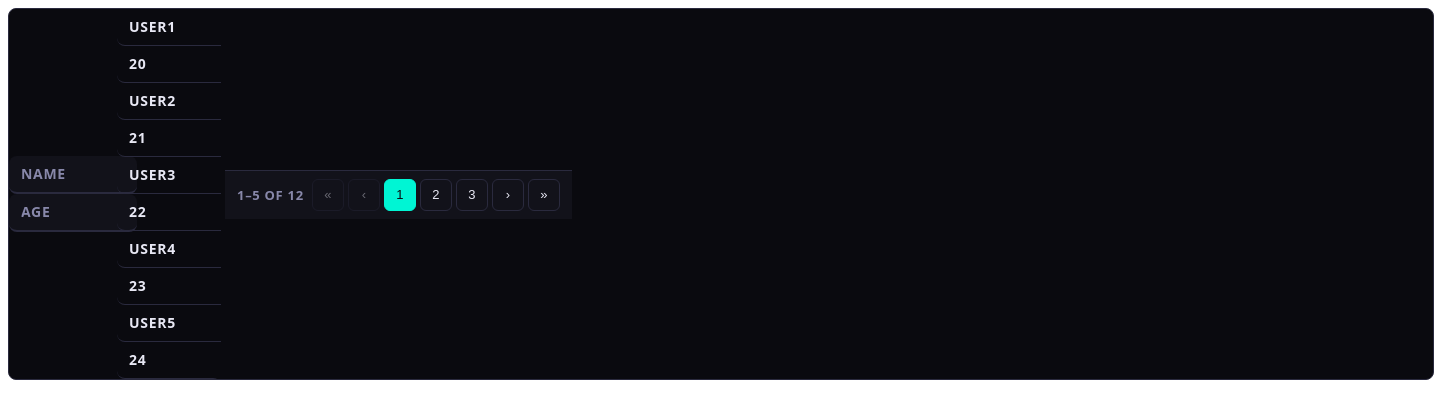
Test: TkxDataGrid › pagination › respects pageSize and next/prev buttons navigate pages
Expected: the text "User1" is shown, top-left (117, 9), bottom-right (221, 46)
Expected: the text "User5" is shown, top-left (117, 305), bottom-right (221, 342)
Click the button named "Next page": click(508, 194) top-left (492, 178), bottom-right (524, 210)
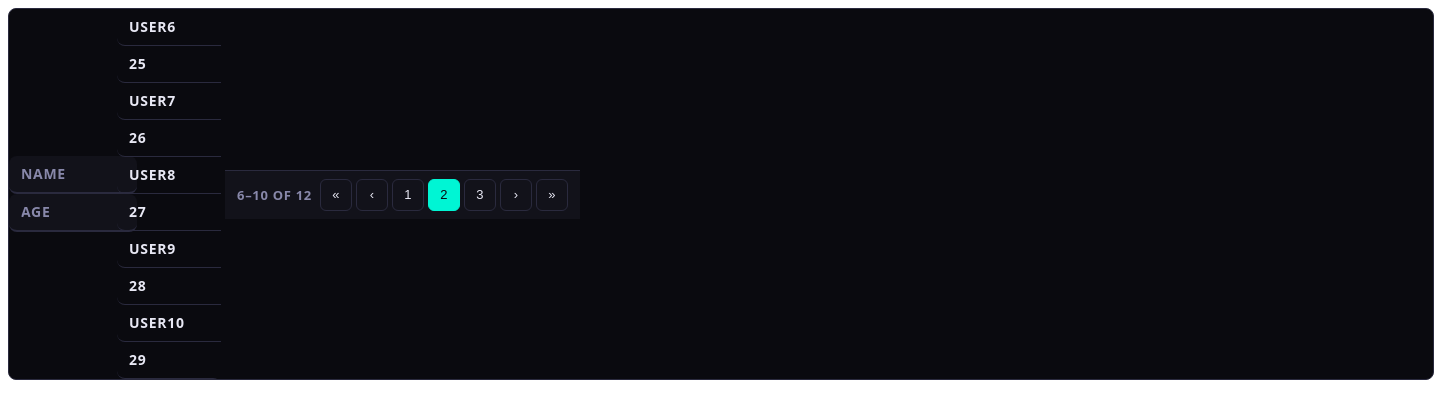
Expected: the text "User6" is shown, top-left (117, 9), bottom-right (221, 46)
Expected: the text "User10" is shown, top-left (117, 305), bottom-right (221, 342)
Click the button named "Previous page": click(372, 194) top-left (356, 178), bottom-right (388, 210)
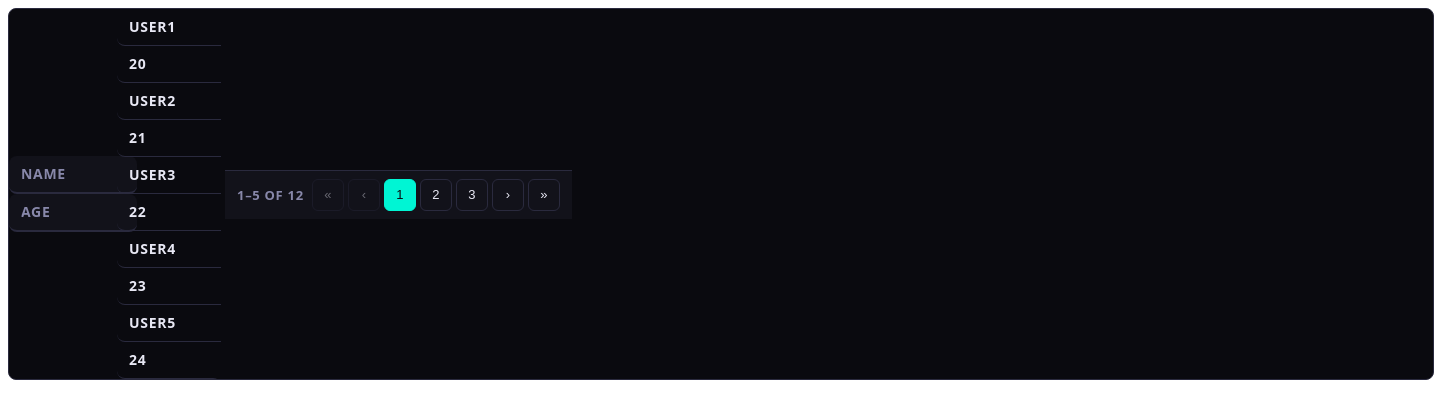
Expected: the text "User1" is shown, top-left (117, 9), bottom-right (221, 46)
Expected: the text "User6" is gone
